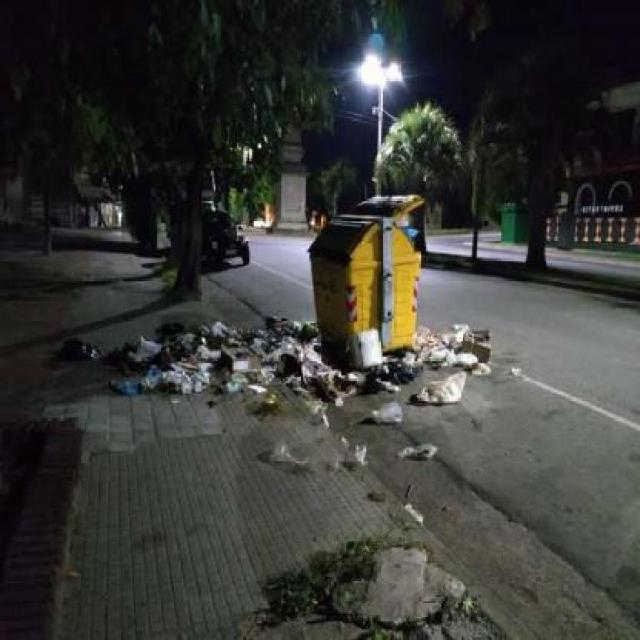garbage: (51, 311, 302, 404), (408, 318, 491, 420), (340, 323, 421, 394), (262, 433, 310, 473), (386, 429, 436, 464), (329, 433, 359, 483)
